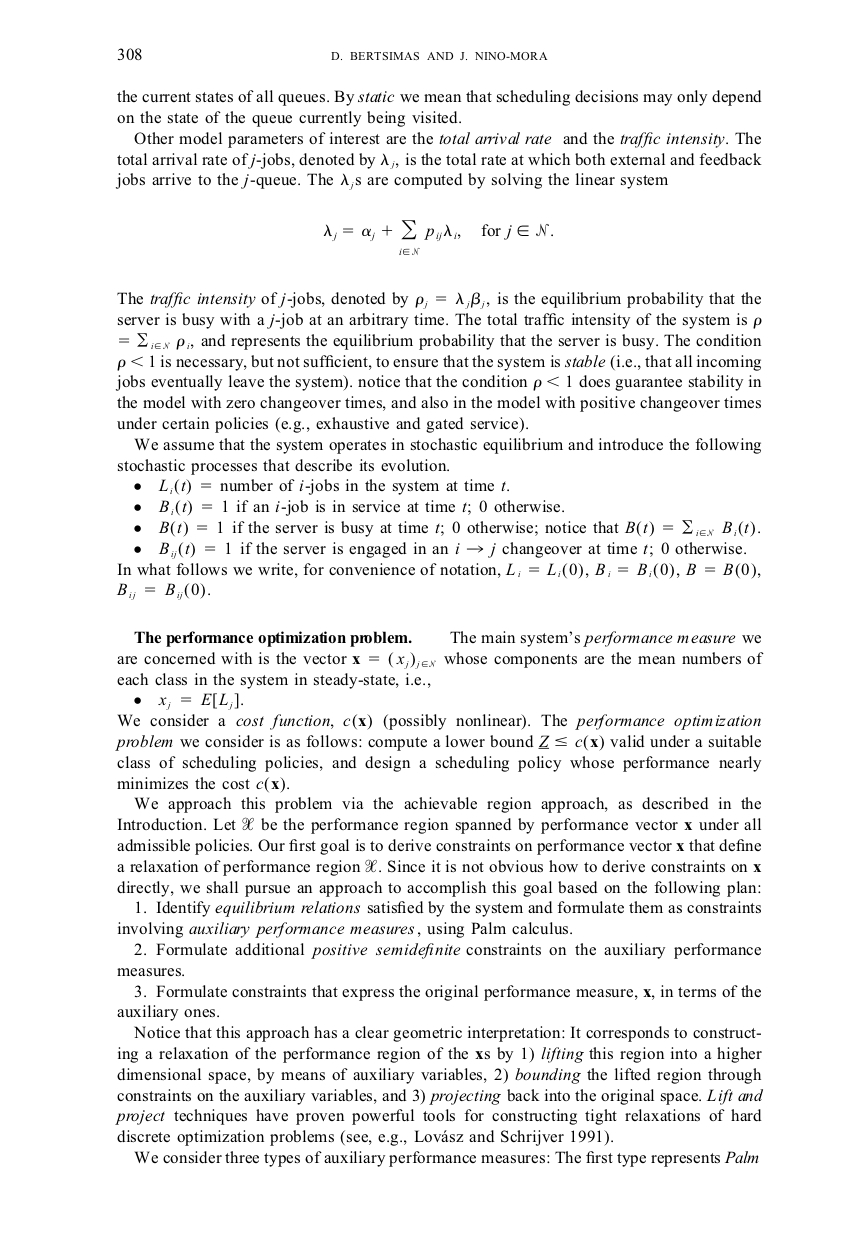formula: (323, 220, 552, 254)
